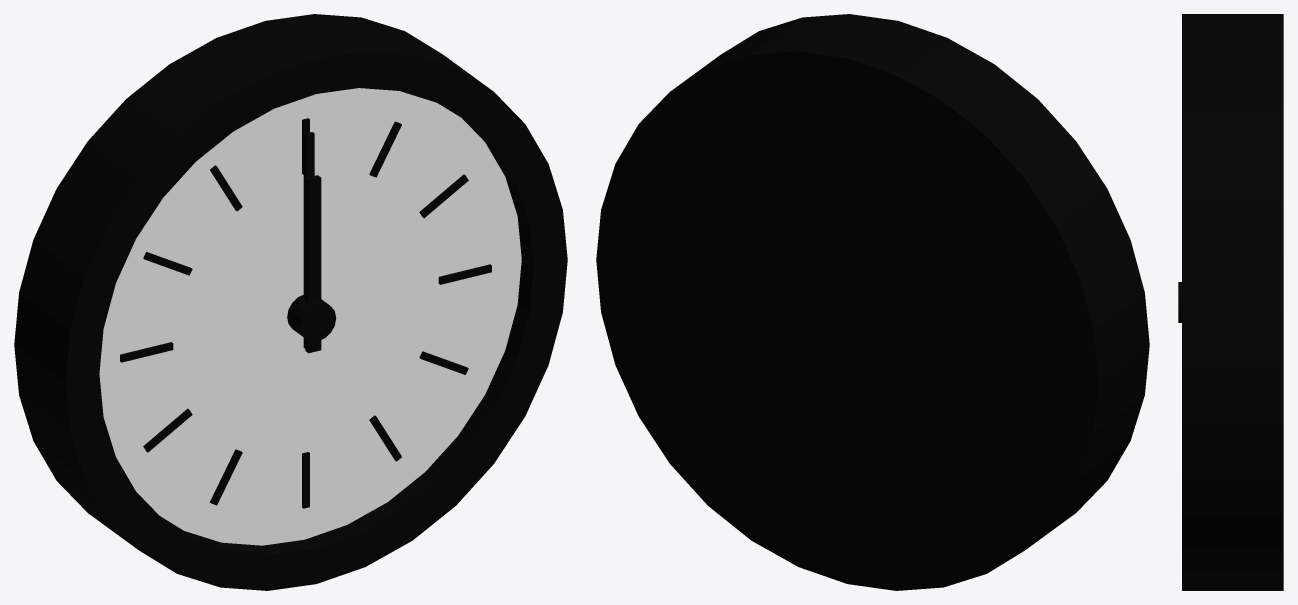
File: clock.obj
3 views of the same model, side by side, from view 1: azimuth 30°, elevation 25°; view 2: azimuth 150°, elevation 25°; view 3: azimuth 270°, elevation 25° (orthographic).
Visible parts, largest first — view 1: Obj_Clock, Obj_Hand.001, Obj_Hand; view 2: Obj_Clock; view 3: Obj_Clock.
Part boxes in pixels (x1,y1,x2,y2): Obj_Clock: [14, 14, 567, 590]; Obj_Hand.001: [305, 175, 321, 353]; Obj_Hand: [303, 132, 314, 348]; Obj_Clock: [596, 14, 1149, 590]; Obj_Clock: [1178, 14, 1283, 590].
Size of the model in its own units: 0.3186 by 0.3186 by 0.0581.
Materials: 1 (1 with a texture image).
